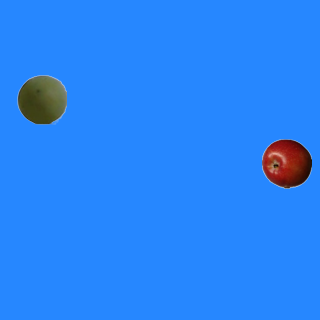Apple Braeburn: (261, 138, 311, 188)
Grape White 4: (16, 74, 66, 124)
